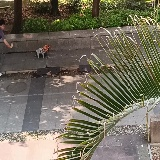fire: (43, 43, 50, 51)
